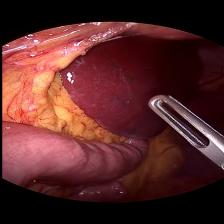Grasper: (138, 88, 224, 173)
